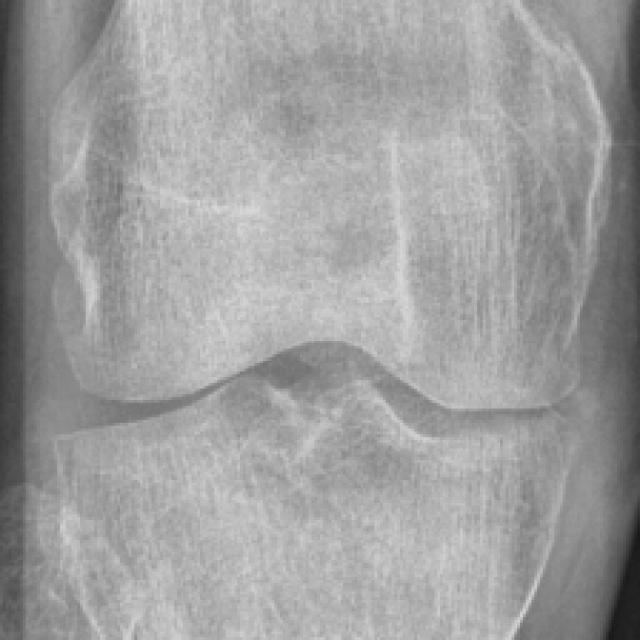femur: (54, 0, 615, 408)
tibia: (36, 371, 570, 637)
